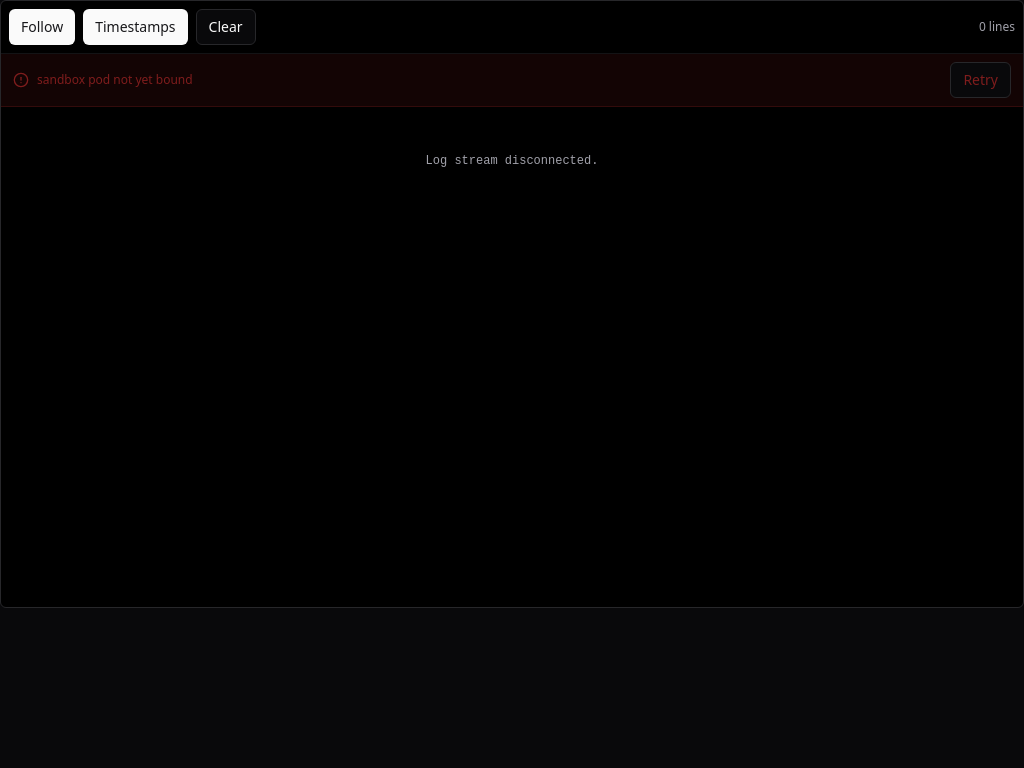
it: TaskLogViewer › displays stream error banner and retries streaming when Retry is clicked
Check: the message shows "sandbox pod not yet bound", box [37,71,193,88]
Check: the text "Log stream disconnected." is shown, box [426,154,598,168]
Click the button "Retry". click: (981, 80)
box: [950,62,1011,98]
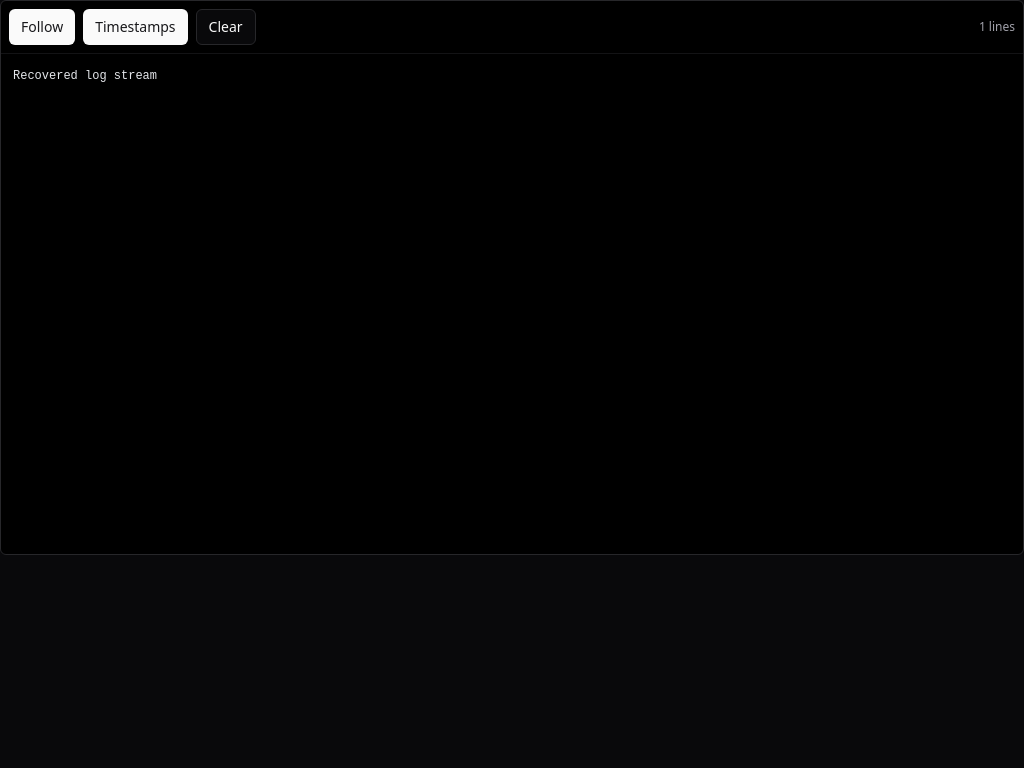
Check: the text "Recovered log stream" is shown, box [13,69,157,83]
Check: the message "sandbox pod not yet bound Retry" is gone
